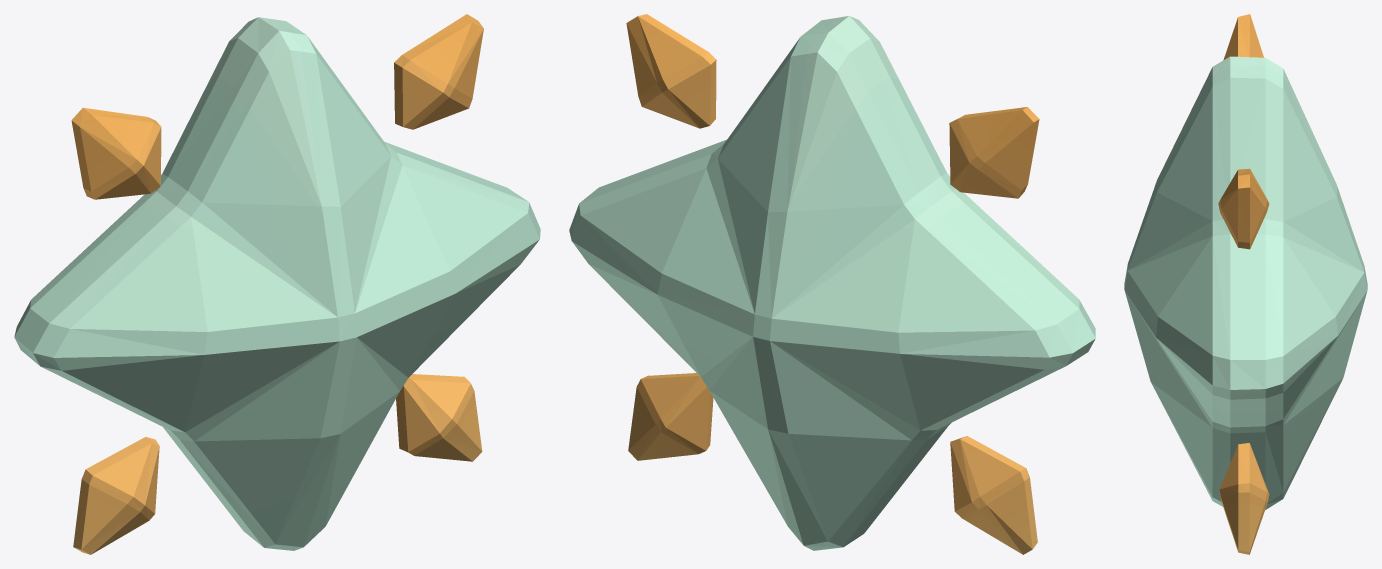
File: CharSkyKid_Prop_StarJar.glb
3 renders of one model, left to right at view 1: azimuth 30°, elevation 25°; view 2: azimuth 150°, elevation 25°; view 3: azimuth 270°, elevation 25°, orthographic. The views are drawn at different scales.
Parts seen in each view (by area): view 1: CharSkyKid_Prop_StarJar; view 2: CharSkyKid_Prop_StarJar; view 3: CharSkyKid_Prop_StarJar.
Part boxes in pixels (<box>): CharSkyKid_Prop_StarJar: <box>14,14,540,554</box>; CharSkyKid_Prop_StarJar: <box>569,14,1095,554</box>; CharSkyKid_Prop_StarJar: <box>1124,14,1367,554</box>.
Bounding box in the file's own units: 2.64 × 2.6 × 1.28.
1 material, 1 textured.
